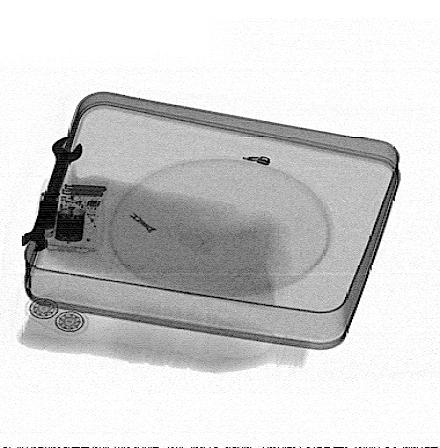Wrench: (20, 134, 83, 254)
